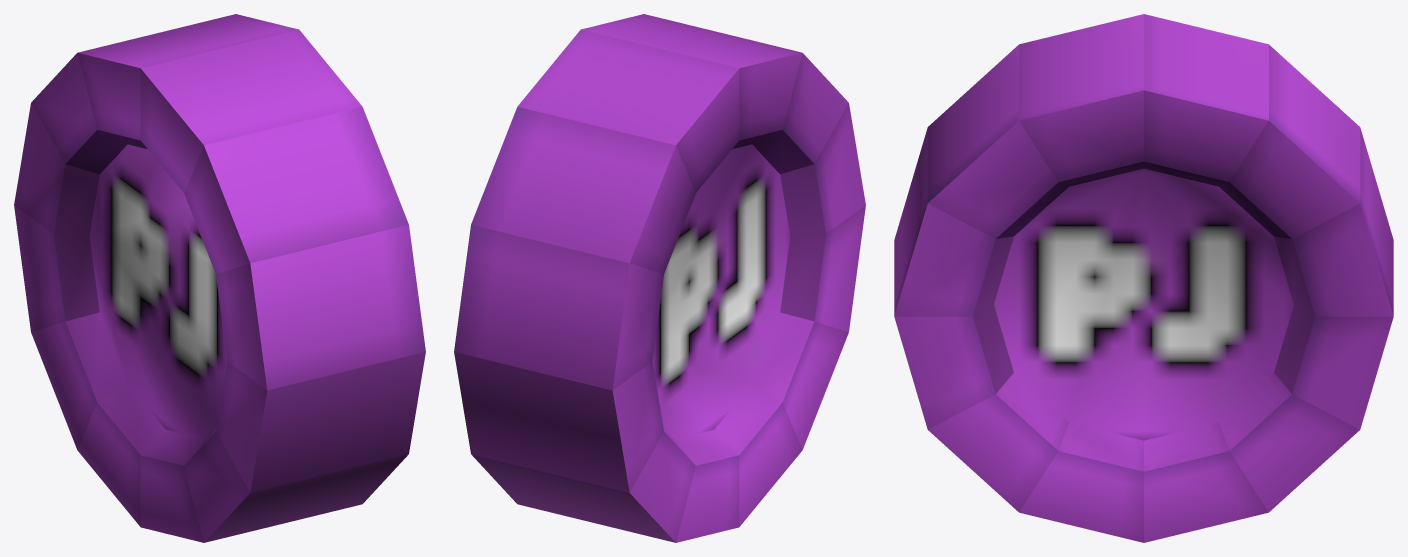
Rendered from coinProcJam.fbx.
The picture shows the model from 3 angles, left to right: view 1: azimuth 30°, elevation 25°; view 2: azimuth 150°, elevation 25°; view 3: azimuth 270°, elevation 25°; orthographic projection.
Visible parts, largest first — view 1: coinProcJam; view 2: coinProcJam; view 3: coinProcJam.
Part boxes in pixels (box(x1,y1,x2,y2)): coinProcJam: box(14, 14, 425, 542); coinProcJam: box(454, 14, 865, 542); coinProcJam: box(894, 14, 1393, 542).
Bounding box in the file's own units: 30.48 × 84.3 × 84.3.
Materials: 1 (1 with a texture image).
